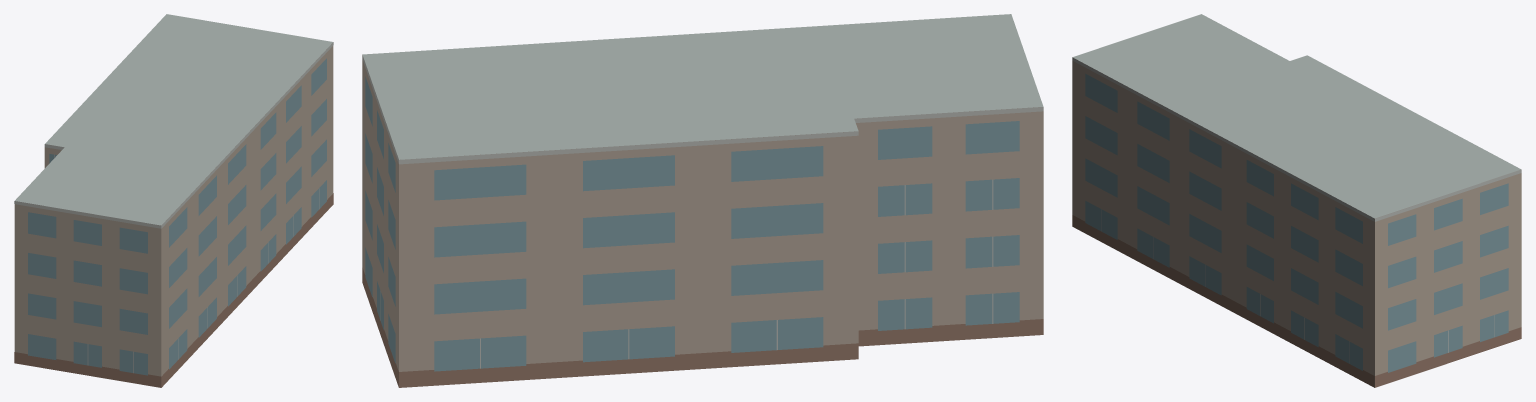
File: residential-5549d5ea-dba9-4960-8a29-0e3838f7e64a.glb
3 views of the same model, side by side, from view 1: azimuth 30°, elevation 25°; view 2: azimuth 150°, elevation 25°; view 3: azimuth 270°, elevation 25° (orthographic). The views are drawn at different scales.
Parts seen in each view (by area): view 1: residential-5549d5ea-dba9-4960-8a29-0e3838f7e64a.tmp; view 2: residential-5549d5ea-dba9-4960-8a29-0e3838f7e64a.tmp; view 3: residential-5549d5ea-dba9-4960-8a29-0e3838f7e64a.tmp.
Boxes of the visible parts, x1,y1,x2,y2 form: residential-5549d5ea-dba9-4960-8a29-0e3838f7e64a.tmp: (14, 14, 333, 387); residential-5549d5ea-dba9-4960-8a29-0e3838f7e64a.tmp: (362, 14, 1043, 387); residential-5549d5ea-dba9-4960-8a29-0e3838f7e64a.tmp: (1072, 14, 1521, 387).
Bounding box in the file's own units: 31.61 × 12.2 × 29.34.
